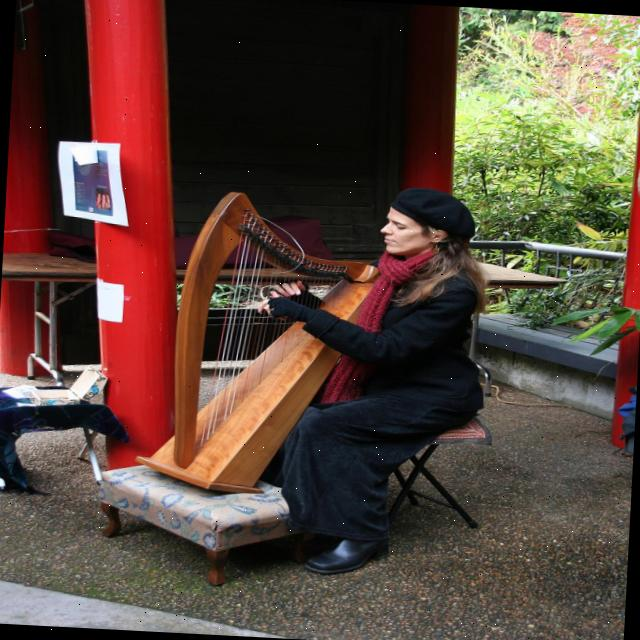harp: (124, 185, 407, 502)
